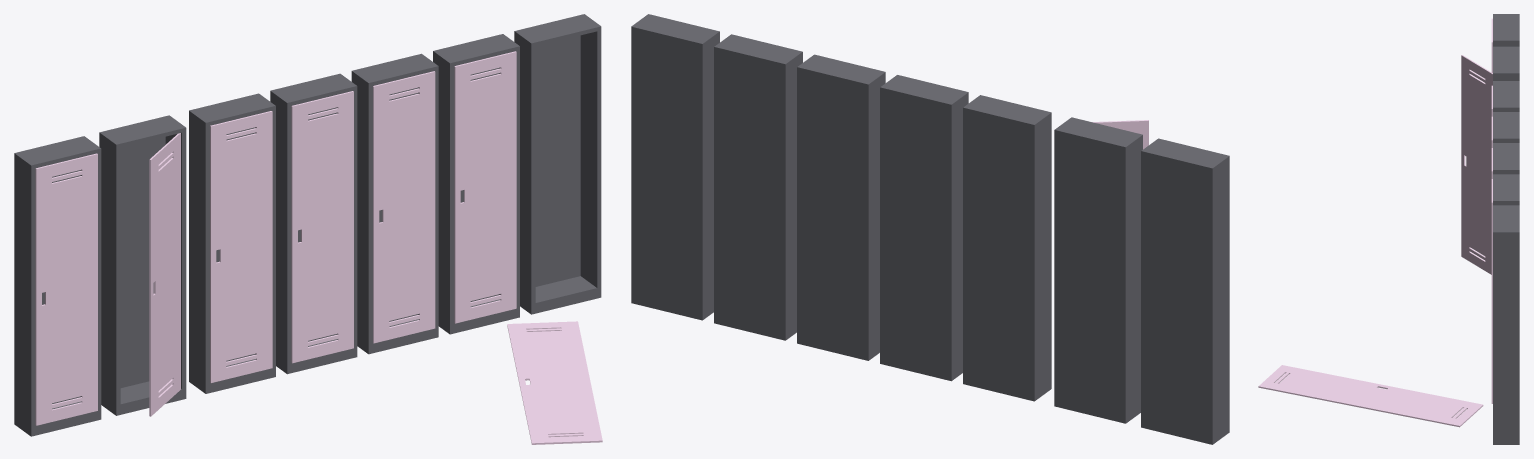
Rendered from 7 casilleros n1.fbx.
3 renders of one model, left to right at view 1: azimuth 30°, elevation 25°; view 2: azimuth 150°, elevation 25°; view 3: azimuth 270°, elevation 25°, orthographic. The views are drawn at different scales.
Parts seen in each view (by area): view 1: casillero 7.030, casillero 7.025, puerta casillero 1.033, puerta casillero 1.034, puerta casillero 1.035, puerta casillero 1.030, puerta casillero 1.032, casillero 7.024, casillero 7.027, puerta casillero 1.036, puerta casillero 1.031, casillero 7.029 (+2 smaller); view 2: casillero 7.024, casillero 7.027, casillero 7.025, casillero 7.030, casillero 7.026, casillero 7.028, casillero 7.029; view 3: casillero 7.030, puerta casillero 1.031, puerta casillero 1.036, casillero 7.025, casillero 7.024, casillero 7.028, casillero 7.029, casillero 7.026, casillero 7.027, puerta casillero 1.035.
Boxes of the visible parts, <box> form: casillero 7.030: <box>514,14,601,314</box>; casillero 7.025: <box>99,115,186,415</box>; puerta casillero 1.033: <box>210,111,272,382</box>; puerta casillero 1.034: <box>373,71,435,343</box>; puerta casillero 1.035: <box>454,51,516,323</box>; puerta casillero 1.030: <box>35,153,97,425</box>; puerta casillero 1.032: <box>291,91,353,363</box>; casillero 7.024: <box>14,136,101,436</box>; casillero 7.027: <box>189,93,275,393</box>; puerta casillero 1.036: <box>507,321,602,444</box>; puerta casillero 1.031: <box>149,133,180,416</box>; casillero 7.029: <box>433,34,519,334</box>; casillero 7.024: <box>1141,138,1229,444</box>; casillero 7.027: <box>963,95,1051,401</box>; casillero 7.025: <box>1054,117,1142,423</box>; casillero 7.030: <box>631,14,719,320</box>; casillero 7.026: <box>880,75,968,381</box>; casillero 7.028: <box>797,54,885,360</box>; casillero 7.029: <box>714,34,802,340</box>; casillero 7.030: <box>1493,205,1519,444</box>; puerta casillero 1.031: <box>1461,55,1492,274</box>; puerta casillero 1.036: <box>1258,365,1483,427</box>; casillero 7.025: <box>1493,46,1519,80</box>; casillero 7.024: <box>1493,14,1519,46</box>; casillero 7.028: <box>1493,143,1519,174</box>; casillero 7.029: <box>1493,174,1519,205</box>; casillero 7.026: <box>1493,112,1519,142</box>; casillero 7.027: <box>1493,81,1519,111</box>; puerta casillero 1.035: <box>1491,179,1492,403</box>.
Size of the model in its own units: 701 by 318 by 354.
